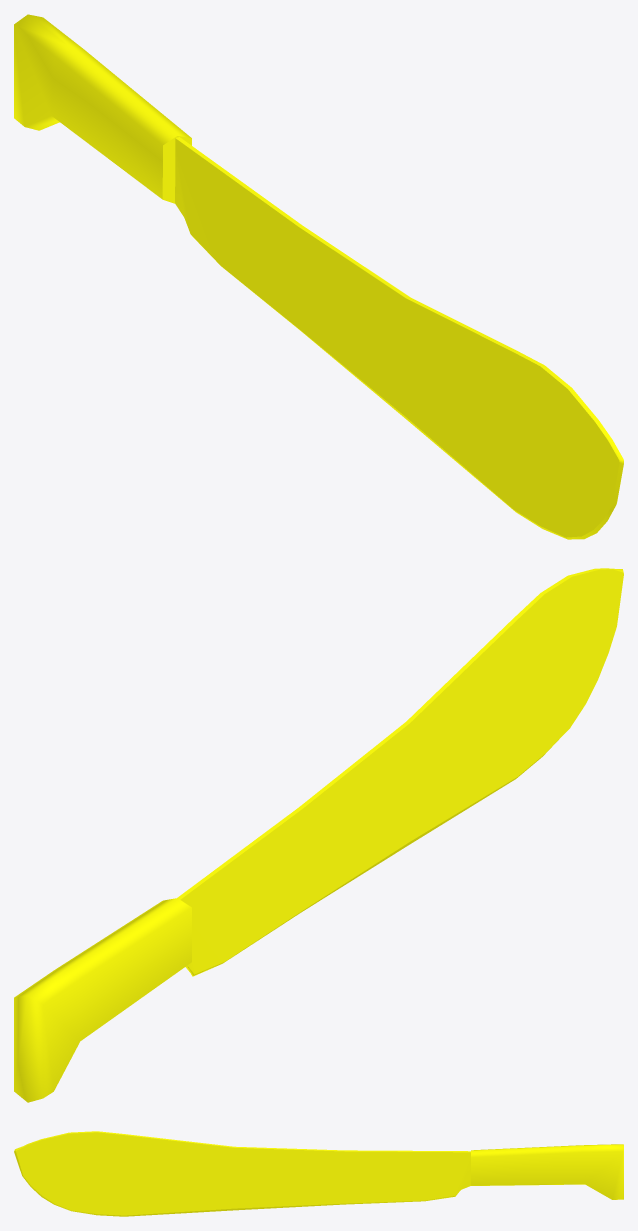
File: melee_machete.glb
The picture shows the model from 3 angles, top to bottom: view 1: azimuth 30°, elevation 25°; view 2: azimuth 150°, elevation 25°; view 3: azimuth 270°, elevation 25°; orthographic projection. The views are drawn at different scales.
Visible parts, largest first — view 1: Machete; view 2: Machete; view 3: Machete.
Part boxes in pixels (x1,y1,x2,y2): Machete: (14, 14, 623, 539); Machete: (14, 568, 623, 1102); Machete: (14, 1131, 623, 1216).
Bounding box in the file's own units: 0.0124 × 0.0676 × 0.44.
1 material, 1 textured.
